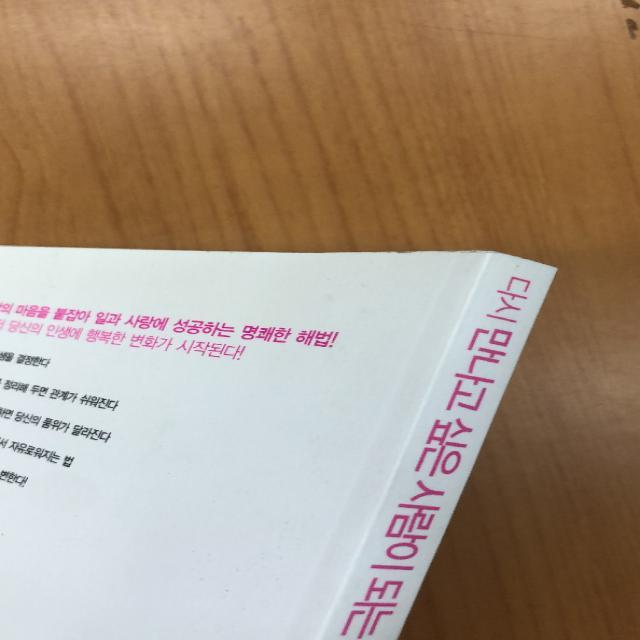Wornout: (373, 243, 506, 266)
